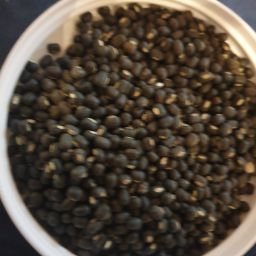Black Gram(urad daal): (46, 7, 256, 256), (85, 39, 256, 236), (15, 58, 146, 228)
